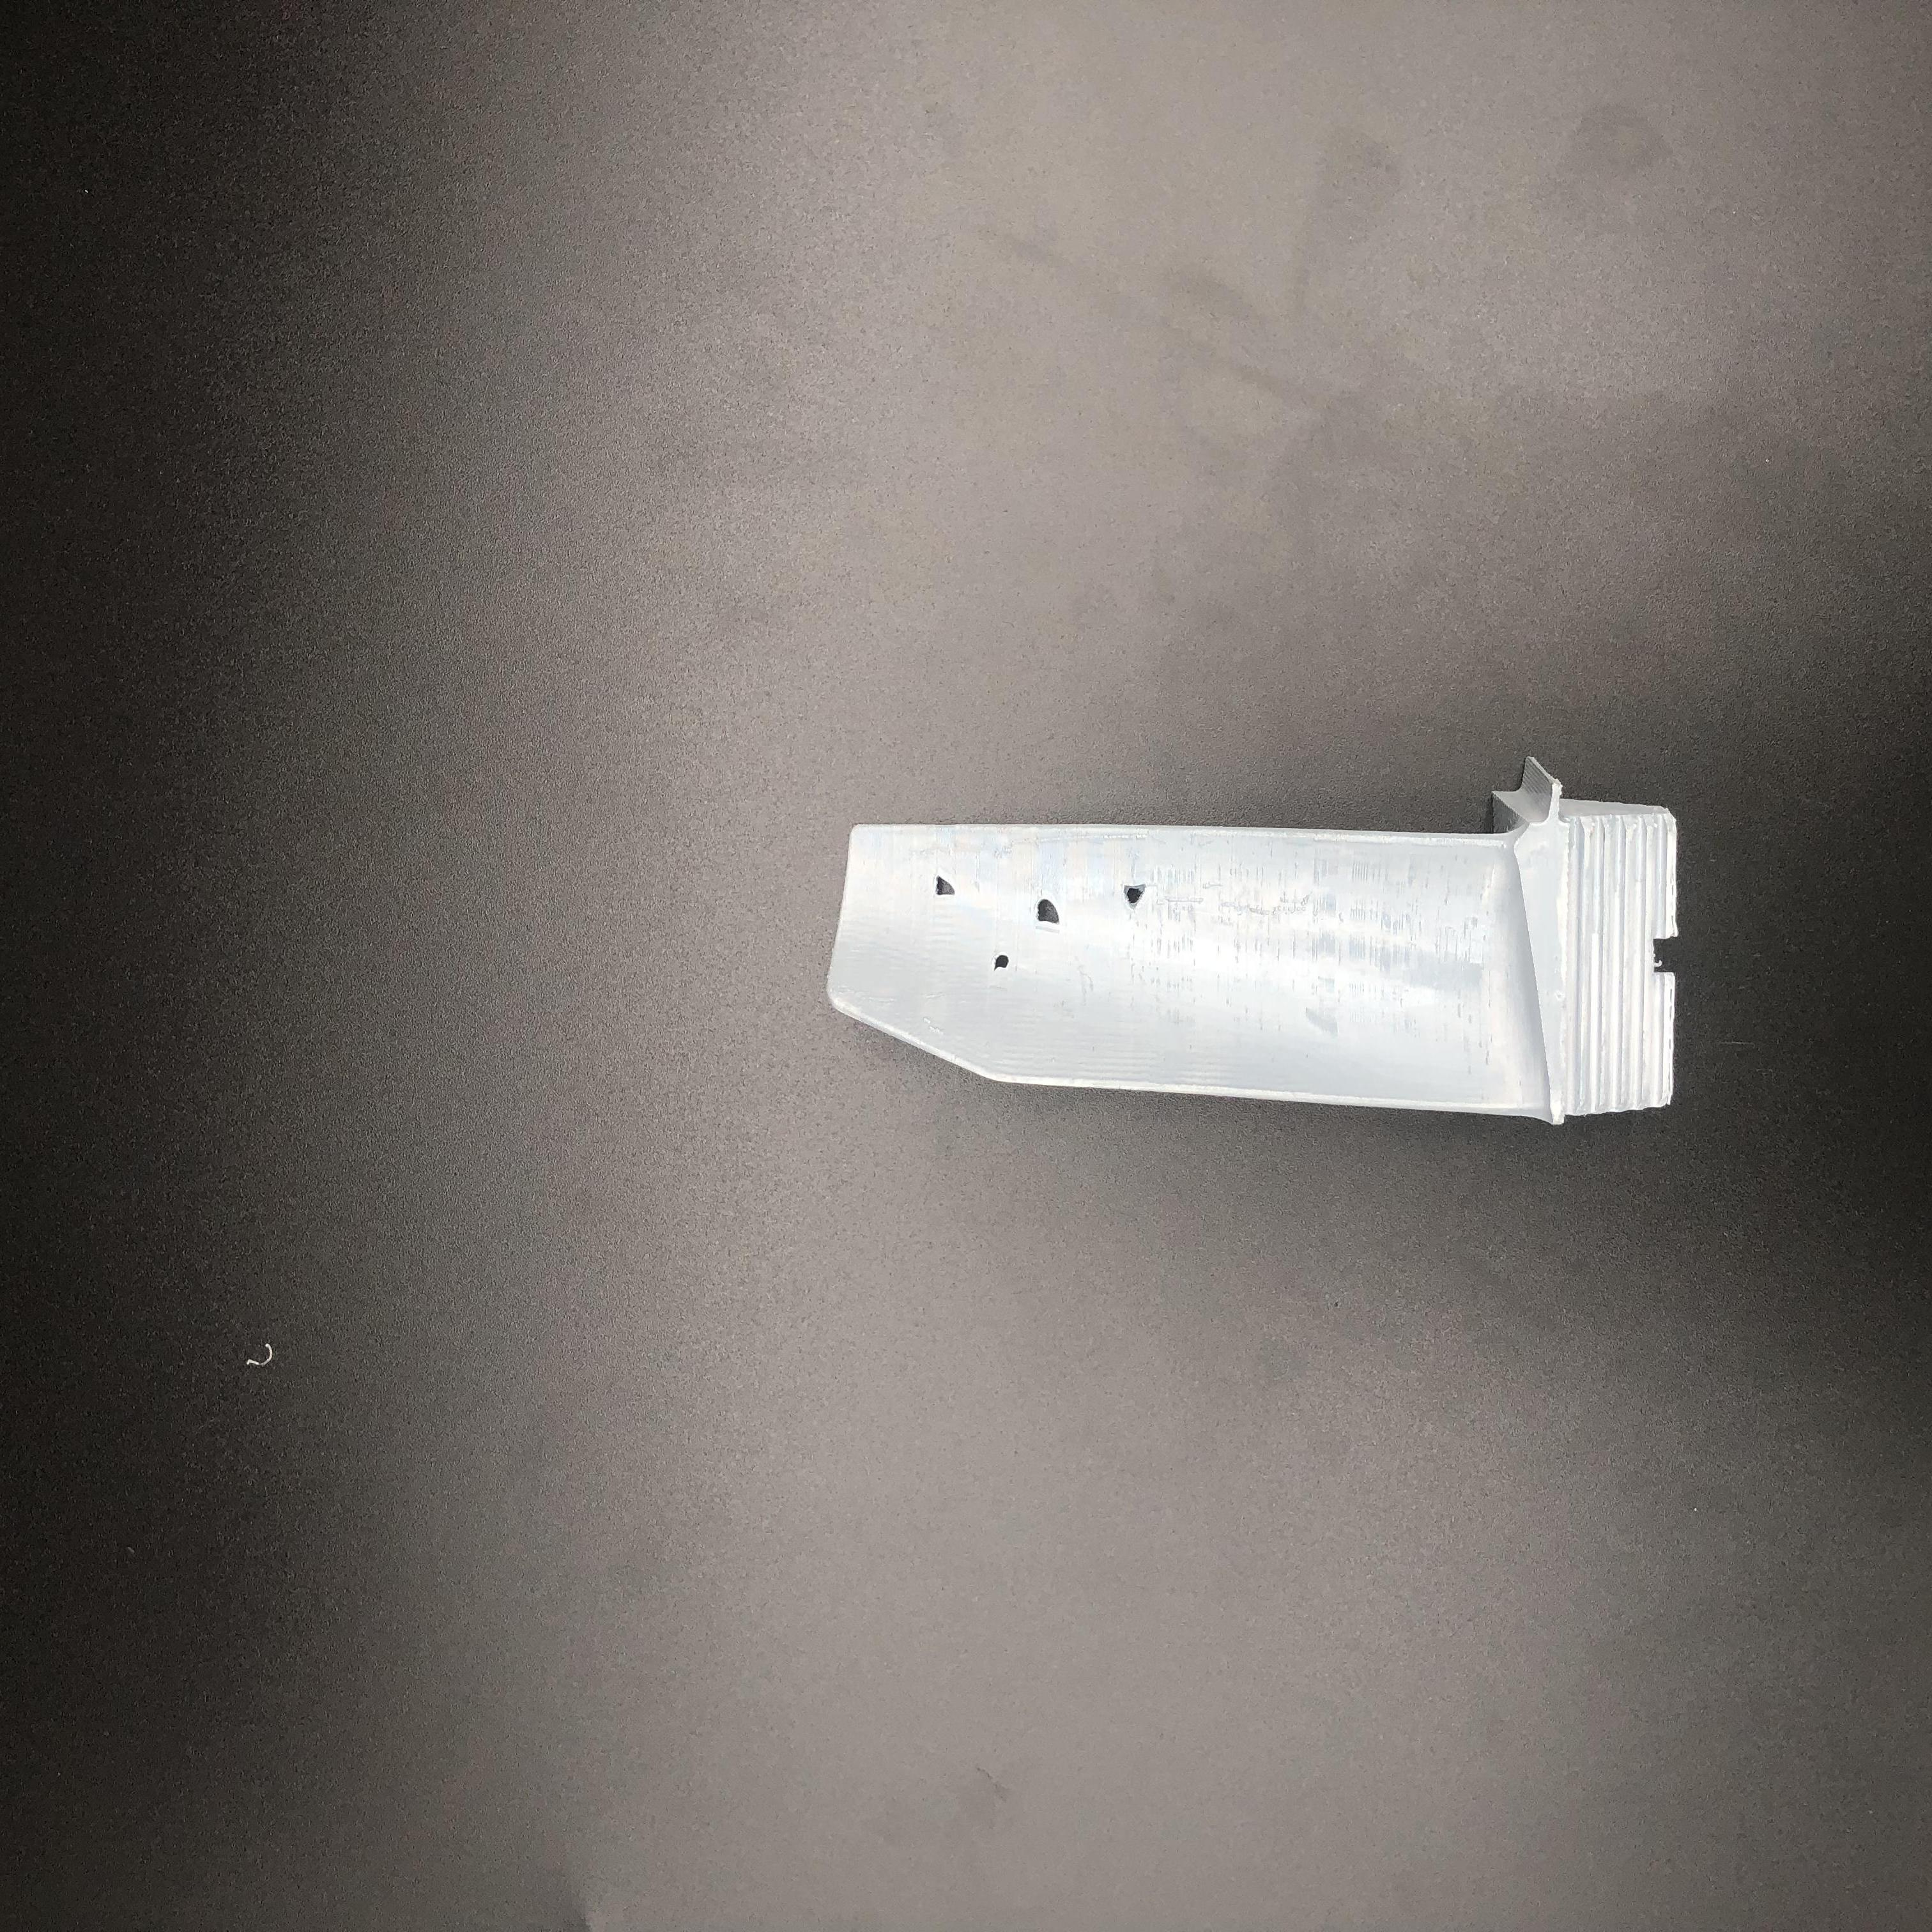breakdown: (922, 869, 1161, 971)
